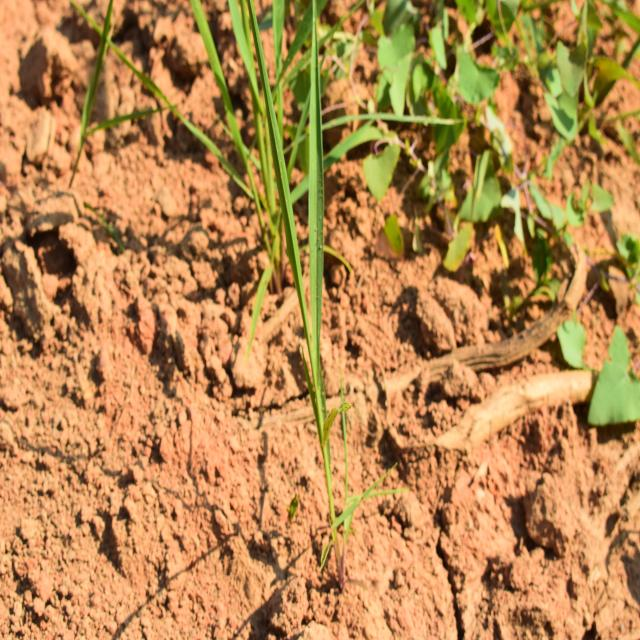green_foxtail: (220, 17, 392, 550)
